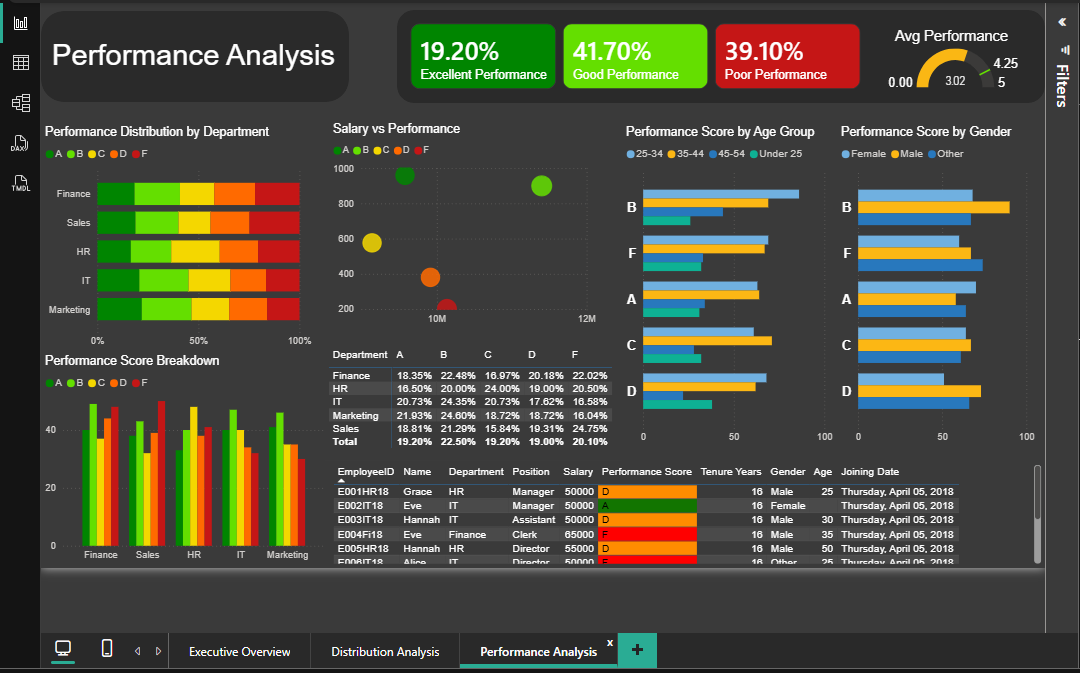

What the dashboard file says about the page in this screenshot:
{"tool":"powerbi","page":{"name":"Performance Analysis","canvas":[1280,720],"ordinal":2},"visuals":[{"type":"clusteredColumnChart","title":"Performance Score Breakdown","fields":{"Category":["working_sheet.Department"],"Y":["CountNonNull(working_sheet.EmployeeID)"],"Series":["working_sheet.Performance Score"]},"box":[0,447.5,367.2,272.8],"z":0},{"type":"tableEx","fields":{"Values":["working_sheet.EmployeeID","working_sheet.Name","working_sheet.Department","working_sheet.Position","working_sheet.Salary","working_sheet.Performance Score","working_sheet.Tenure Years","working_sheet.Gender","working_sheet.Age","working_sheet.Joining Date"]},"box":[367.2,583.9,912.8,136.4],"z":1},{"type":"hundredPercentStackedBarChart","title":"Performance Distribution by Department","fields":{"Category":["working_sheet.Department"],"Y":["working_sheet.Total Employees"],"Series":["working_sheet.Performance Score"]},"box":[0,155.5,350.6,292],"z":2},{"type":"scatterChart","title":"Salary vs Performance","fields":{"X":["Sum(working_sheet.Salary)"],"Y":["Sum(working_sheet.Performance Numeric)"],"Series":["working_sheet.Performance Score"],"Size":["Sum(working_sheet.Tenure Years)"]},"box":[367.2,151.7,345.5,266.5],"z":3},{"type":"pivotTable","fields":{"Rows":["working_sheet.Department"],"Columns":["working_sheet.Performance Score"],"Values":["working_sheet.% in Department"]},"box":[362.1,434.7,378.6,149.2],"z":4},{"type":"clusteredBarChart","title":"Performance Score by Gender","fields":{"Series":["working_sheet.Gender"],"Category":["working_sheet.Performance Score"],"Y":["working_sheet.Total Employees"]},"box":[1014.8,155.5,257.5,414.3],"z":5},{"type":"clusteredBarChart","title":"Performance Score by Age Group","fields":{"Series":["working_sheet.Age Group"],"Category":["working_sheet.Performance Score"],"Y":["working_sheet.Total Employees"]},"box":[740.7,155.5,274.1,414.3],"z":6},{"type":"shape","box":[453.9,8.9,826.1,118.6],"z":9},{"type":"cardVisual","fields":{"Data":["working_sheet.% Emp with score A","working_sheet.% Emp with Score A+B","working_sheet.% Emp with Score D+F"]},"box":[453.9,8.9,609.4,118.6],"z":10},{"type":"gauge","title":"Avg Performance","fields":{"Y":["working_sheet.Avg Performance"],"TargetValue":["DateTable.Target Score"],"MaxValue":["DateTable.Max Score"]},"box":[1049.2,31.9,223.1,85.4],"z":11},{"type":"shape","box":[0,10.2,392.7,116],"z":12},{"type":"textbox","box":[8.9,39.5,383.7,57.4],"z":13}]}

Visuals, with their boxes on the page's 1280x720 design canvas (x1, y1, x2, y2). These are canvas units, not pixel positions in the 1080x673 screenshot, which may show the page scaled, cropped or inside an application window:
"Performance Score Breakdown" clusteredColumnChart: bbox(0, 448, 367, 720)
tableEx - working_sheet.EmployeeID x working_sheet.Name: bbox(367, 584, 1280, 720)
"Performance Distribution by Department" hundredPercentStackedBarChart: bbox(0, 156, 351, 448)
"Salary vs Performance" scatterChart: bbox(367, 152, 713, 418)
pivotTable - working_sheet.Department x working_sheet.Performance Score: bbox(362, 435, 741, 584)
"Performance Score by Gender" clusteredBarChart: bbox(1015, 156, 1272, 570)
"Performance Score by Age Group" clusteredBarChart: bbox(741, 156, 1015, 570)
shape: bbox(454, 9, 1280, 128)
cardVisual - working_sheet.% Emp with score A x working_sheet.% Emp with Score A+B: bbox(454, 9, 1063, 128)
"Avg Performance" gauge: bbox(1049, 32, 1272, 117)
shape: bbox(0, 10, 393, 126)
textbox: bbox(9, 40, 393, 97)
